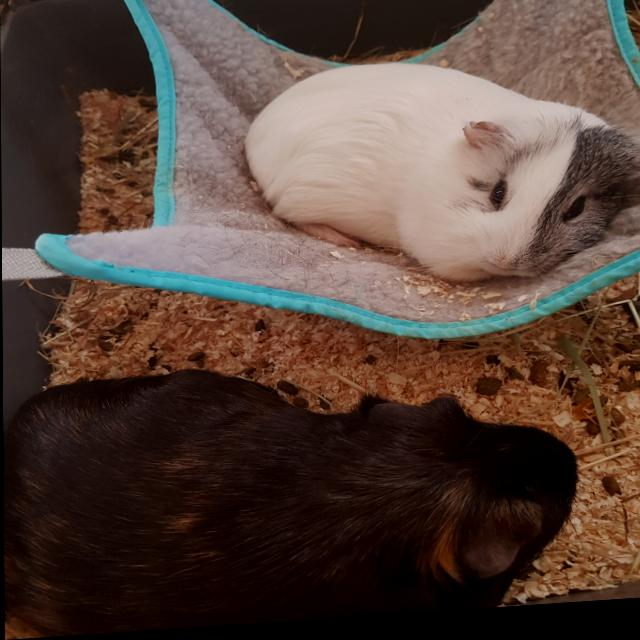guinea pig: (2, 347, 586, 640), (240, 53, 640, 303)
